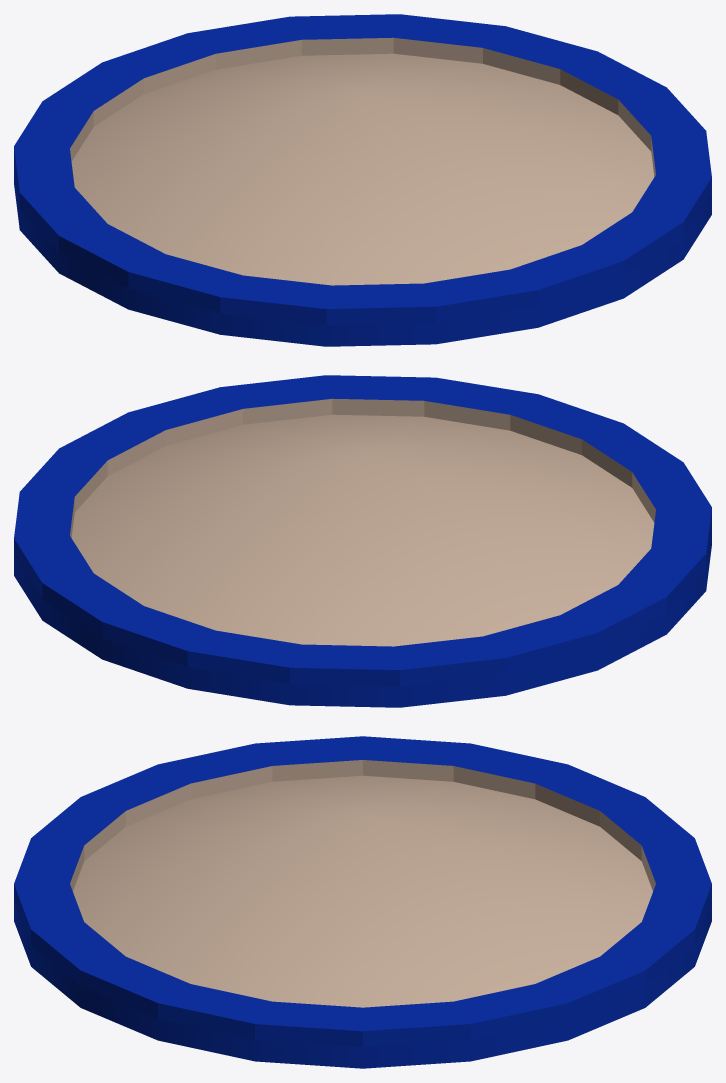
File: tate.fbx
3 renders of one model, top to bottom at view 1: azimuth 30°, elevation 25°; view 2: azimuth 150°, elevation 25°; view 3: azimuth 270°, elevation 25°, orthographic.
Parts seen in each view (by area): view 1: pCylinder1; view 2: pCylinder1; view 3: pCylinder1.
Boxes of the visible parts, box(x1,y1,x2,y2) form: pCylinder1: box(14, 14, 711, 346); pCylinder1: box(14, 375, 711, 707); pCylinder1: box(14, 736, 711, 1068).
Bounding box in the file's own units: 2 × 0.3279 × 2.
